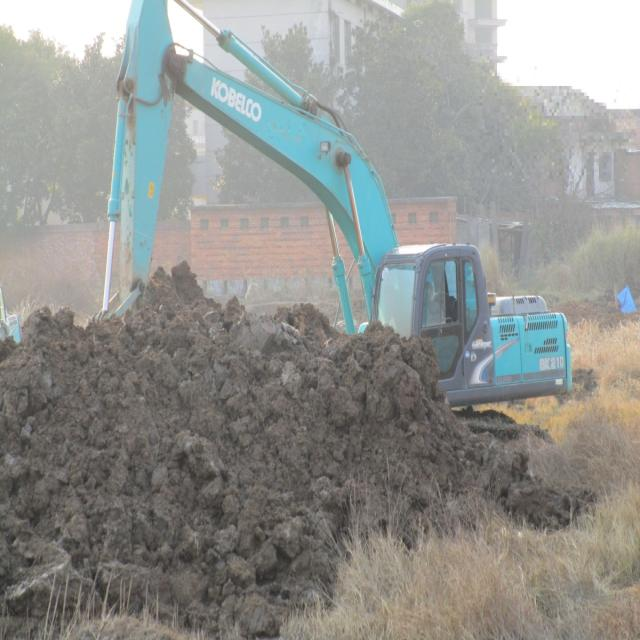excavator: (87, 0, 571, 408)
